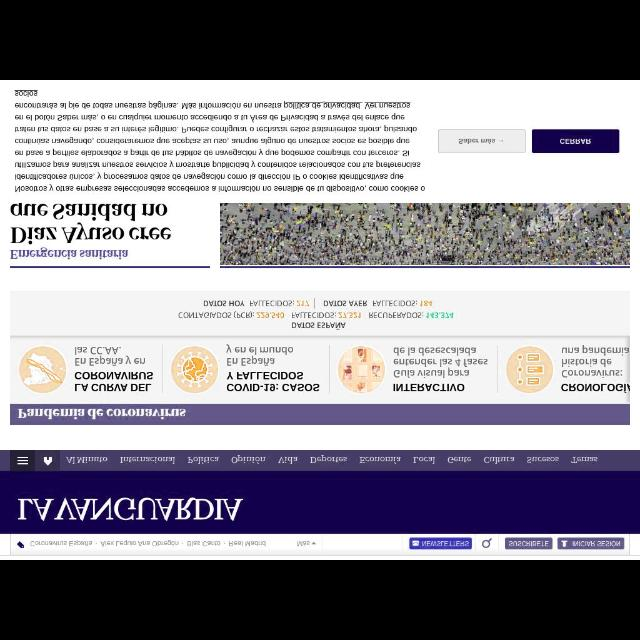button: (35, 451, 59, 472), (11, 451, 35, 471)
icon: (482, 538, 492, 548), (17, 456, 28, 464), (44, 456, 52, 466), (16, 542, 24, 548), (413, 540, 419, 546), (562, 540, 568, 546), (498, 140, 504, 142), (312, 542, 316, 544)
image: (220, 203, 630, 265), (338, 346, 384, 394), (19, 347, 66, 393), (507, 346, 553, 392), (172, 346, 218, 392)
multitab: (1, 451, 639, 472)
spinner: (297, 541, 317, 547)
text: (18, 498, 242, 522), (14, 148, 410, 158), (15, 172, 403, 182), (10, 222, 172, 244), (15, 184, 425, 192), (16, 160, 420, 168), (14, 137, 410, 145), (11, 202, 168, 222), (16, 112, 404, 120), (15, 126, 417, 132), (16, 102, 410, 108), (18, 408, 186, 420), (11, 247, 128, 259), (227, 344, 293, 356), (562, 344, 628, 356), (394, 368, 470, 378), (394, 359, 488, 367), (393, 348, 475, 357), (227, 384, 319, 392), (76, 356, 144, 366), (562, 383, 630, 393), (323, 300, 432, 306), (178, 312, 284, 318), (75, 372, 153, 380), (204, 300, 308, 306), (75, 383, 152, 391), (227, 372, 303, 380), (394, 384, 464, 392), (562, 369, 622, 378), (370, 312, 454, 318), (562, 358, 612, 368), (227, 356, 275, 366), (101, 540, 179, 546), (76, 346, 120, 356), (120, 456, 174, 464), (292, 322, 346, 330), (293, 312, 362, 318), (30, 540, 92, 546), (309, 454, 346, 464), (574, 540, 620, 548), (232, 454, 266, 464), (67, 456, 107, 464), (360, 457, 400, 465), (423, 540, 469, 546), (527, 456, 559, 464), (509, 541, 549, 547), (188, 456, 218, 464), (484, 456, 514, 464), (229, 540, 265, 546), (459, 138, 495, 144), (572, 456, 598, 464), (188, 541, 220, 547), (560, 138, 590, 144), (413, 456, 435, 464), (448, 456, 470, 464), (279, 456, 297, 464), (16, 90, 38, 96), (297, 541, 311, 547)
textbutton: (532, 130, 620, 152), (439, 130, 525, 152), (558, 538, 624, 548), (410, 538, 472, 548), (506, 538, 552, 548)
toolbar: (1, 472, 640, 558)
